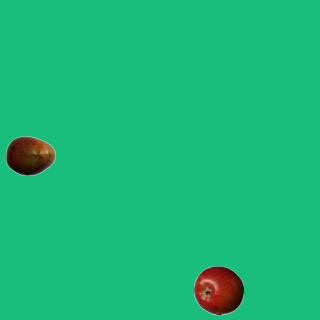Apple Braeburn: (193, 265, 243, 315)
Mango Red: (5, 130, 55, 180)
